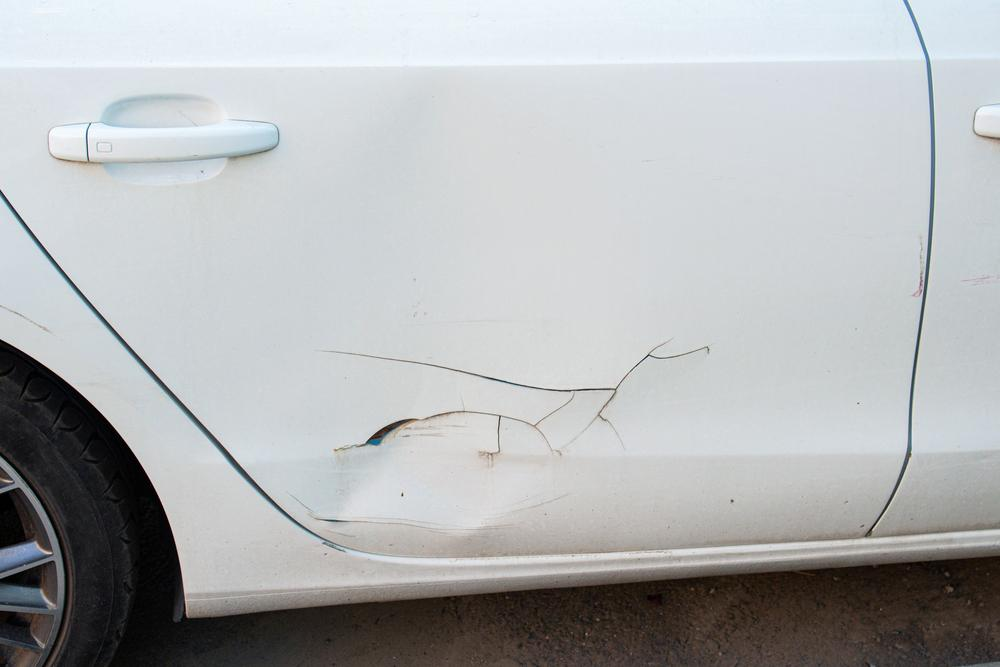crack: (316, 337, 711, 457)
dent: (332, 418, 490, 542)
